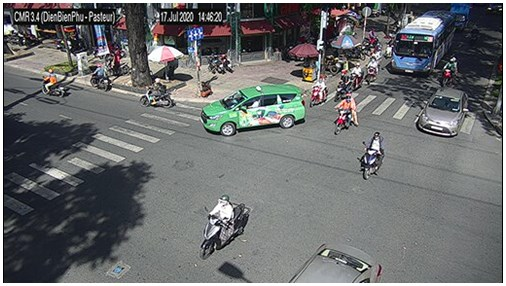xe_buyt: (392, 10, 455, 74)
xe_hoi: (287, 242, 383, 283), (417, 86, 469, 137)
xe_may: (199, 194, 247, 260), (360, 132, 385, 180), (333, 92, 358, 134), (140, 78, 173, 109), (41, 68, 65, 97), (310, 76, 329, 108), (90, 64, 110, 91), (336, 69, 352, 99), (442, 57, 458, 86), (351, 62, 365, 89), (366, 56, 378, 86), (467, 24, 479, 44), (373, 44, 382, 69), (385, 37, 393, 59)
xe_taxi: (200, 85, 306, 136)
